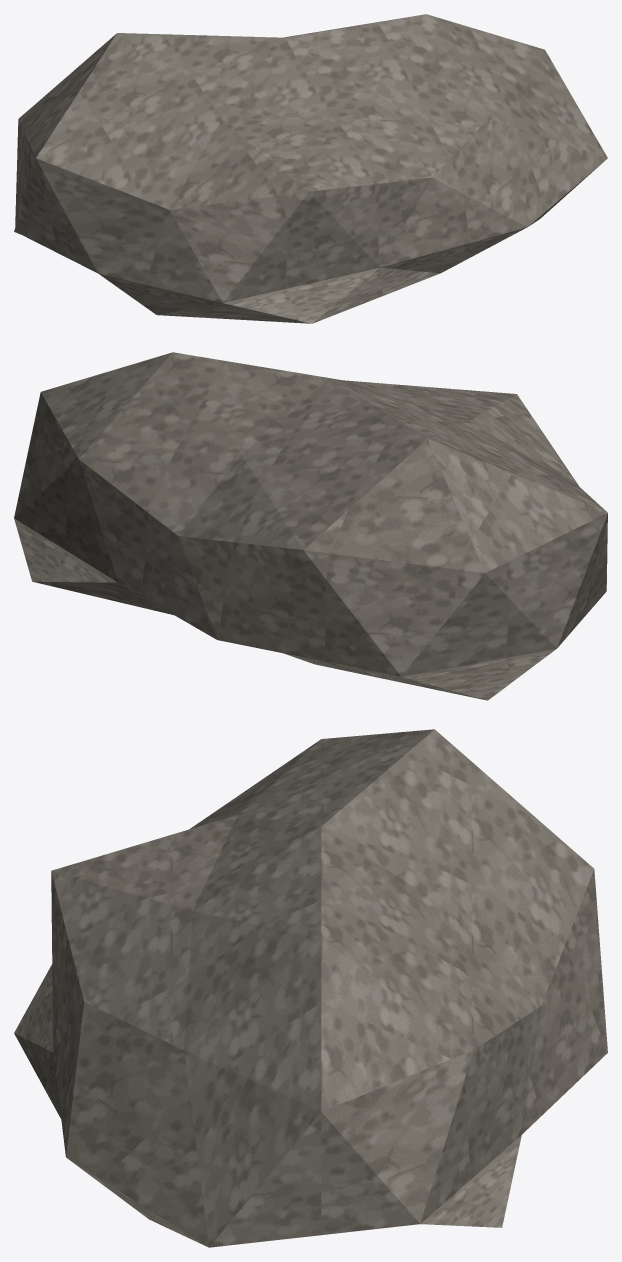
Rendered from rock_large.glb.
The picture shows the model from 3 angles, top to bottom: view 1: azimuth 30°, elevation 25°; view 2: azimuth 150°, elevation 25°; view 3: azimuth 270°, elevation 25°; orthographic projection. The views are drawn at different scales.
Visible parts, largest first — view 1: Rock_Large; view 2: Rock_Large; view 3: Rock_Large.
Boxes of the visible parts, x1,y1,x2,y2 form: Rock_Large: (14, 14, 607, 323); Rock_Large: (14, 352, 607, 700); Rock_Large: (14, 729, 607, 1247).
Bounding box in the file's own units: 8.65 × 3.39 × 5.92.
Materials: 1 (1 with a texture image).
